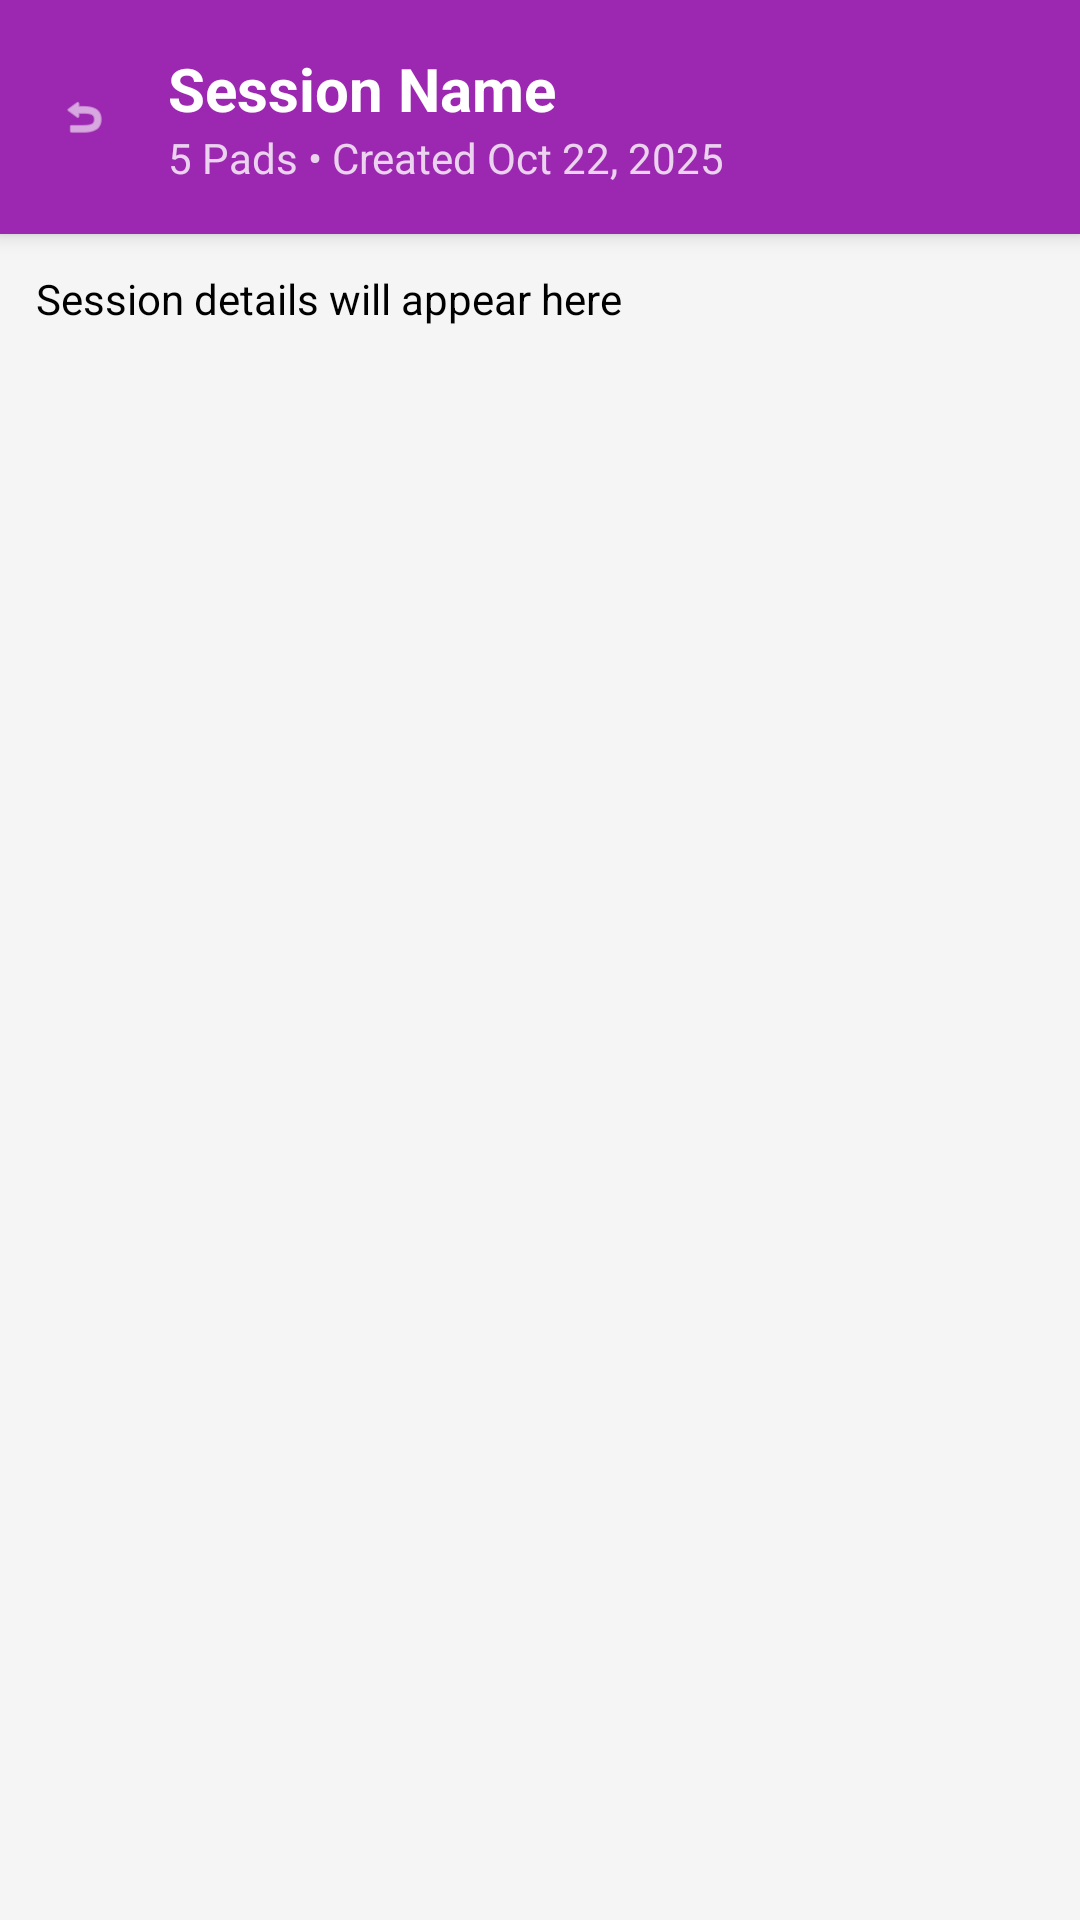

Where icons sit on this 1080x1920 app screen, as [x1, y1, x2, y2]:
revert: [67, 102, 102, 133]
